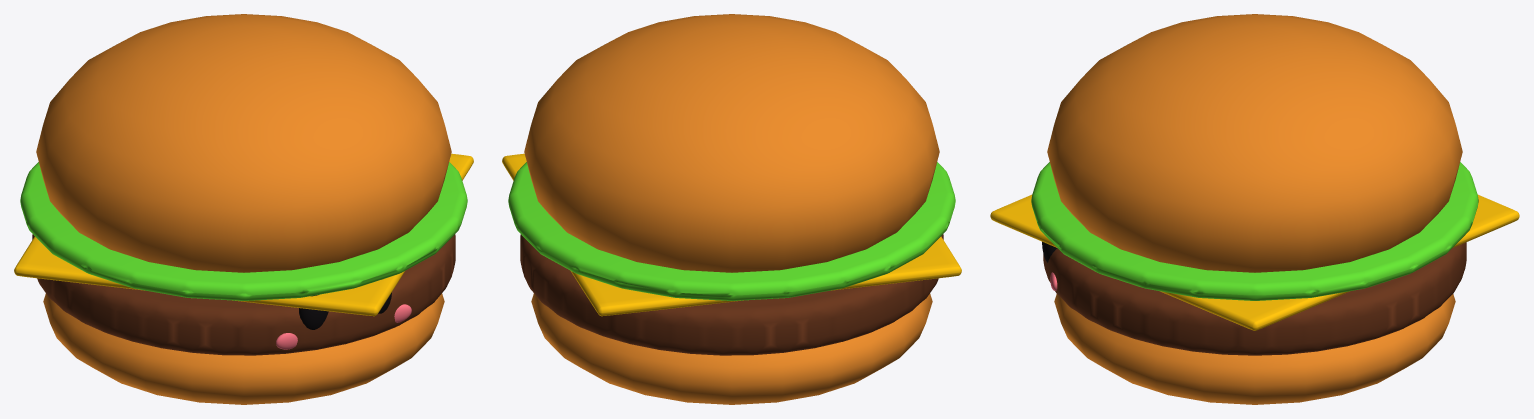
The model's file is Burger.glb.
3 renders of one model, left to right at view 1: azimuth 30°, elevation 25°; view 2: azimuth 150°, elevation 25°; view 3: azimuth 270°, elevation 25°, orthographic.
Visible parts, largest first — view 1: Sphere.001, Sphere, Cylinder, Cylinder.001, Cube, Sphere.022; view 2: Sphere.001, Cylinder, Sphere, Cylinder.001, Cube; view 3: Sphere.001, Cylinder, Sphere, Cylinder.001, Cube.
Boxes of the visible parts, <box> form: Sphere.001: <box>36,14,451,272</box>; Sphere: <box>43,293,444,404</box>; Cylinder: <box>32,234,455,355</box>; Cylinder.001: <box>20,162,467,300</box>; Cube: <box>14,153,473,316</box>; Sphere.022: <box>299,294,328,329</box>; Sphere.001: <box>524,14,939,272</box>; Cylinder: <box>520,234,943,355</box>; Sphere: <box>531,293,932,404</box>; Cylinder.001: <box>508,162,955,300</box>; Cube: <box>502,153,961,316</box>; Sphere.001: <box>1047,14,1462,272</box>; Cylinder: <box>1043,242,1466,355</box>; Sphere: <box>1054,294,1455,404</box>; Cylinder.001: <box>1031,162,1478,300</box>; Cube: <box>990,194,1519,330</box>.
Size of the model in its own units: 2.24 by 1.48 by 2.24.
